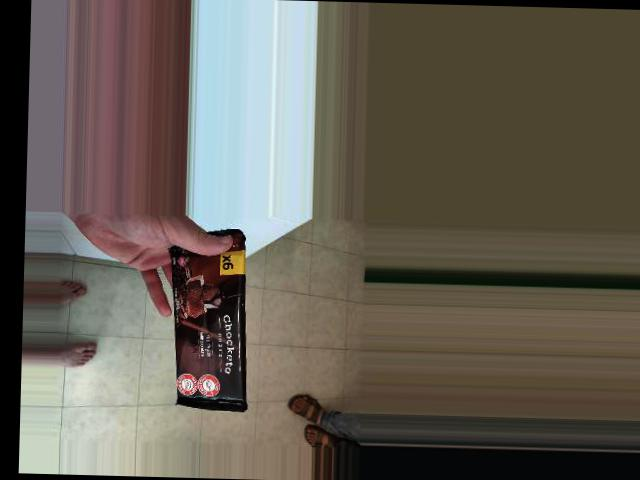chocolate: (149, 223, 260, 412)
